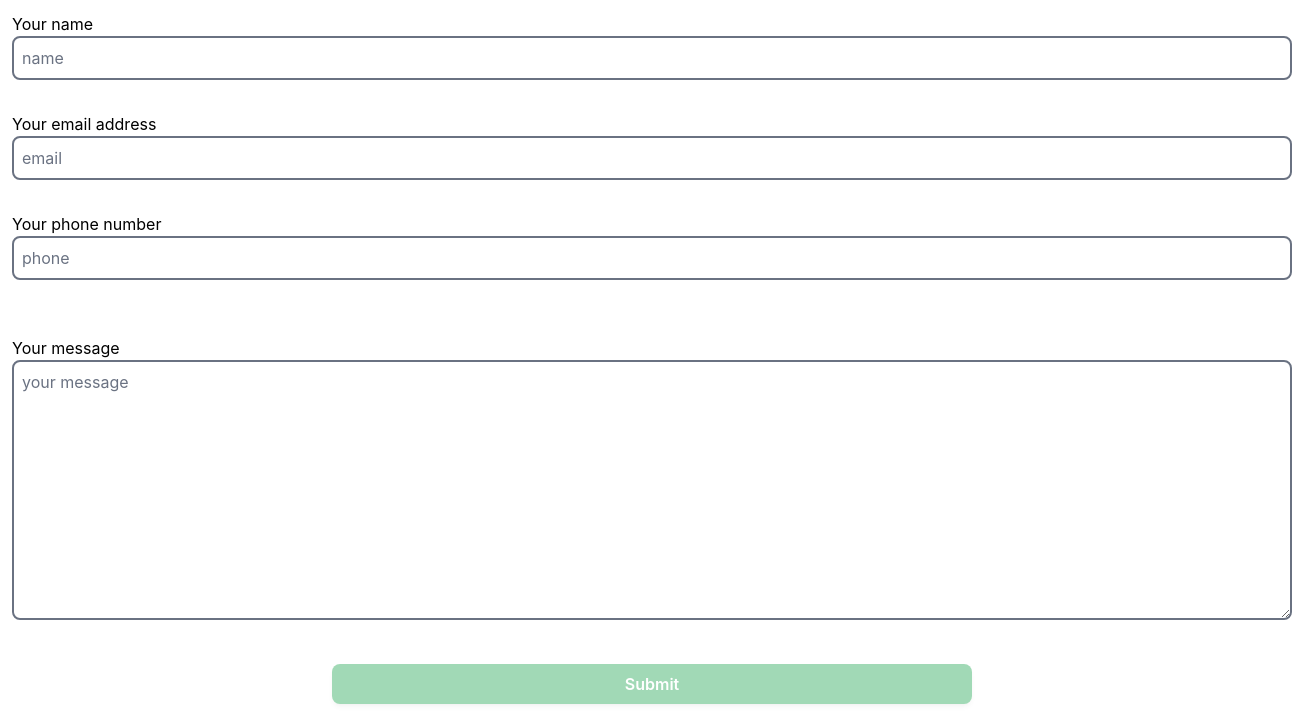
Test case: BaseContactForm › displays error message for invalid email
Step 1. Type "invalid-email" into the field with id "email" → (652, 158), box [12, 136, 1292, 180]
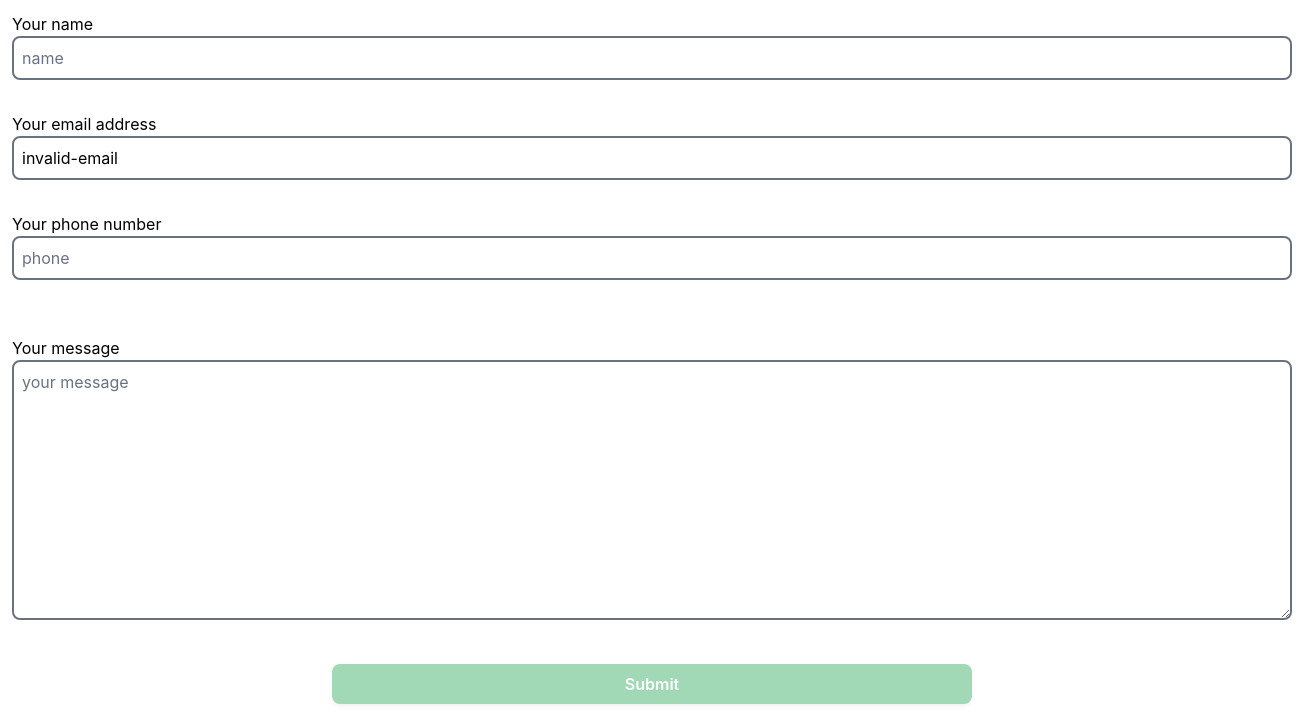
Step 2. Leave the field with id "email", box [12, 136, 1292, 180]
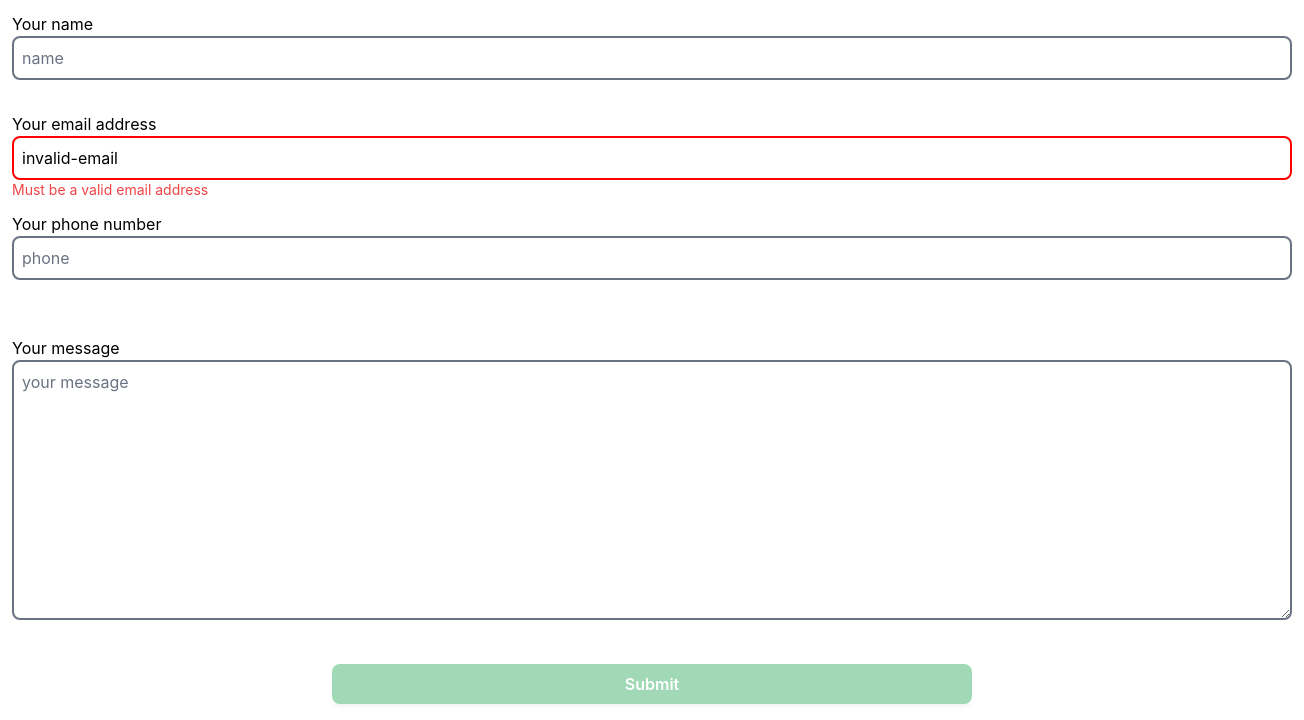
Now the text "Must be a valid email address" is shown, box [12, 181, 208, 198]
